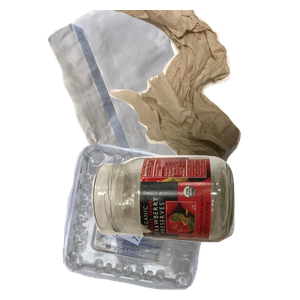glass: (89, 153, 300, 300)
paper: (45, 10, 251, 190)
plastic: (60, 141, 263, 300)
trash: (103, 10, 300, 173)
